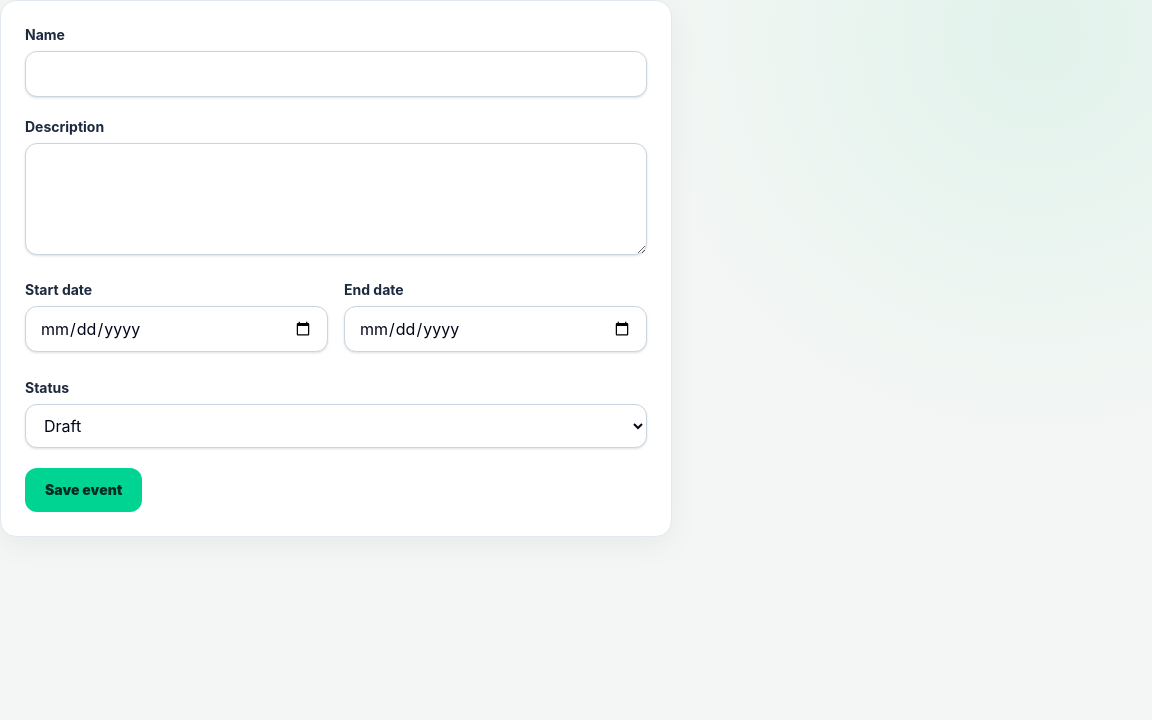
Scenario: admin forms › shows backend validation errors without clearing useful input
The image size is (1152, 720).
In the field labelled "Name": (336, 74) [25,51,647,97], type "Cup"
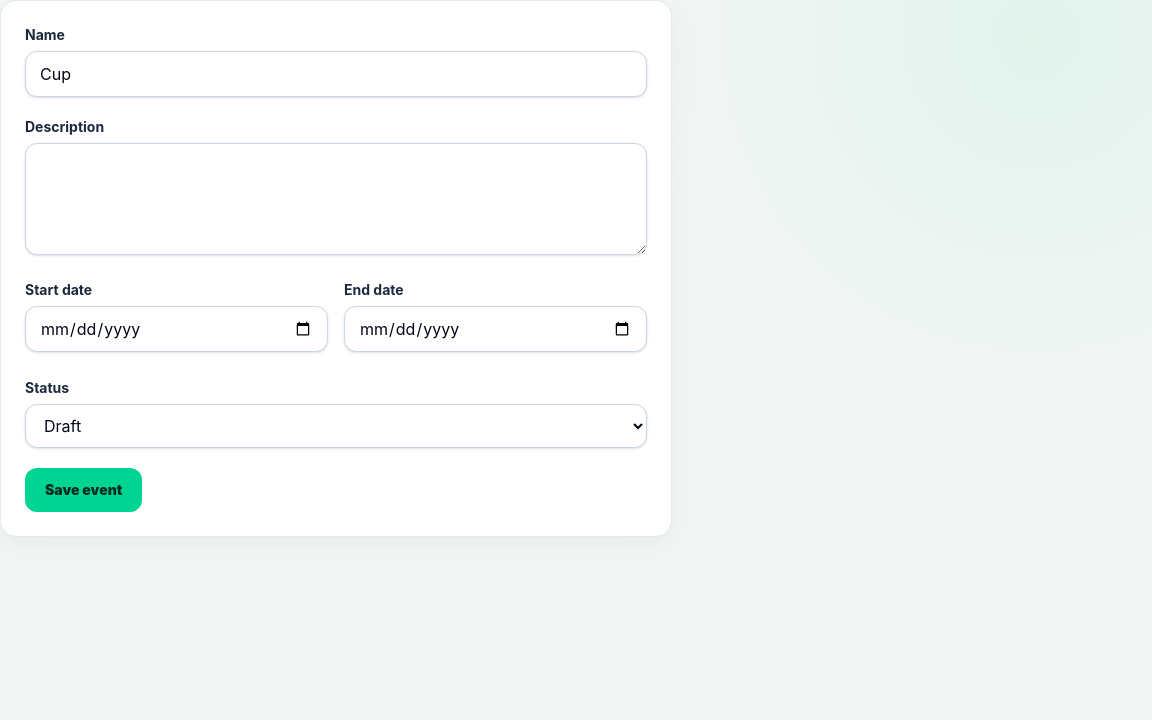
In the date field labelled "Start date": (176, 329) [25,306,328,352], type "2026-01-02"
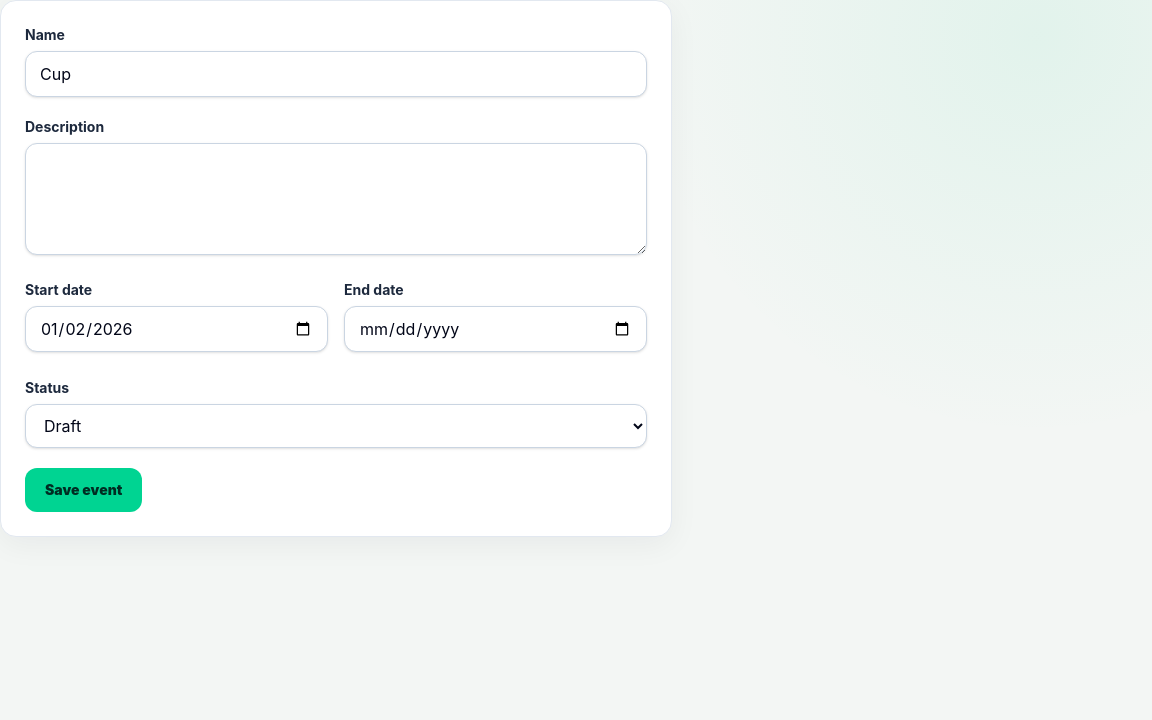
In the date field labelled "End date": (496, 329) [344,306,647,352], type "2026-01-01"
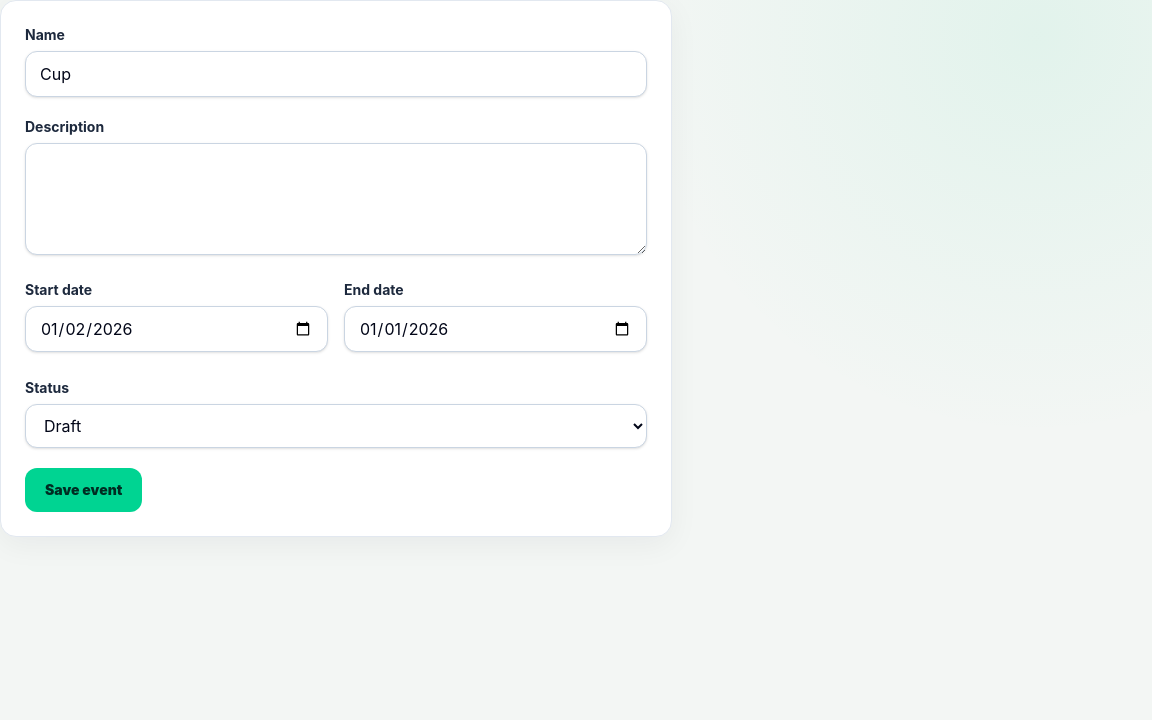
Click the button "Save event": (84, 490) [25,468,142,512]
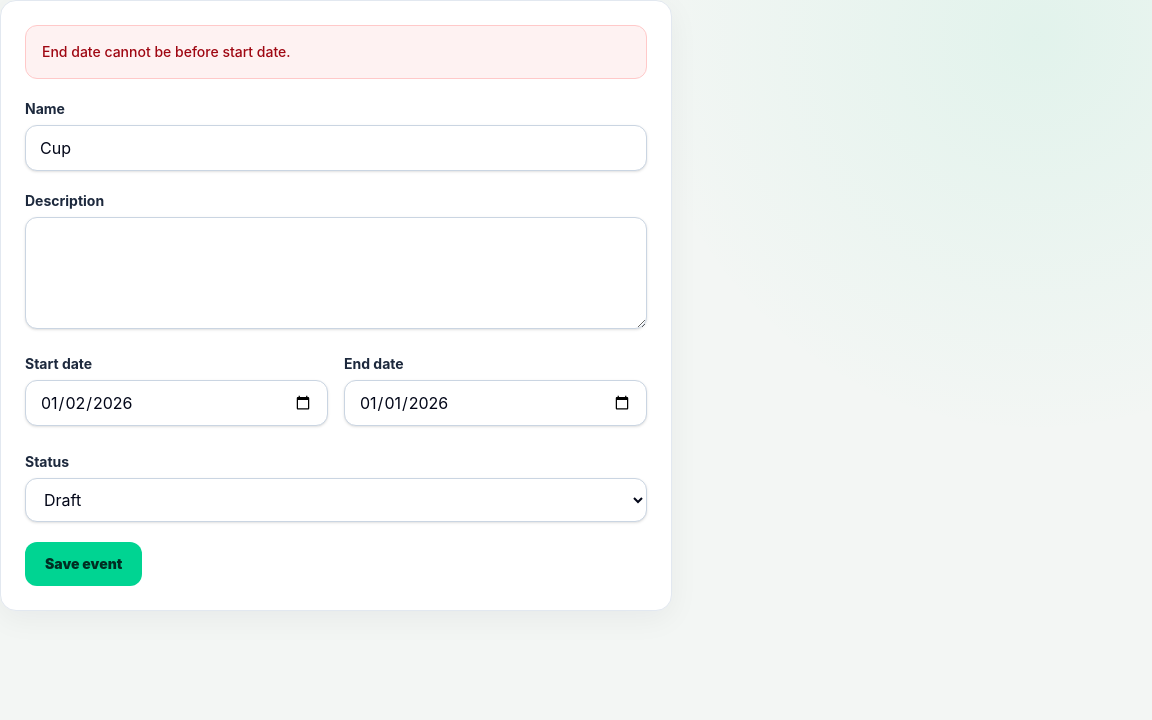
Now the message reads "End date cannot be before start date.", box [42,43,291,60]
